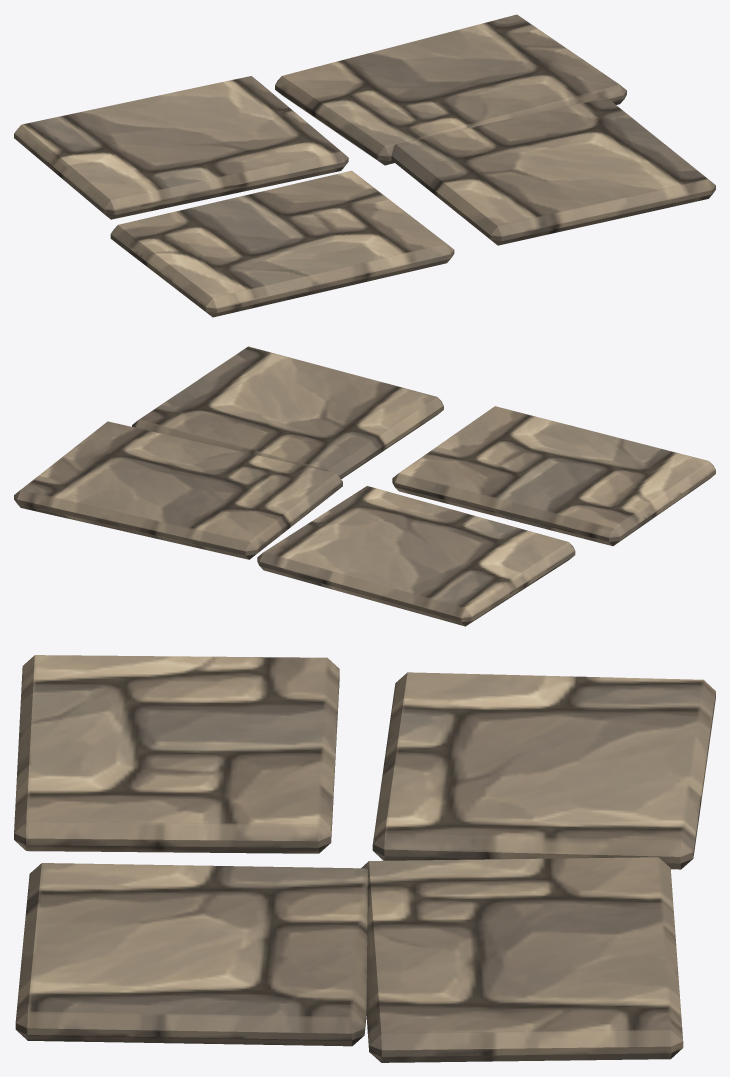
File: mapkit_flags_forest.fbx
3 renders of one model, top to bottom at view 1: azimuth 30°, elevation 25°; view 2: azimuth 150°, elevation 25°; view 3: azimuth 270°, elevation 25°, orthographic. The views are drawn at different scales.
Visible parts, largest first — view 1: Body; view 2: Body; view 3: Body.
Part boxes in pixels (x1,y1,x2,y2): Body: (14, 14, 715, 317); Body: (14, 346, 715, 626); Body: (14, 655, 715, 1062).
Size of the model in its own units: 376 by 13 by 287.
1 material, 1 textured.
